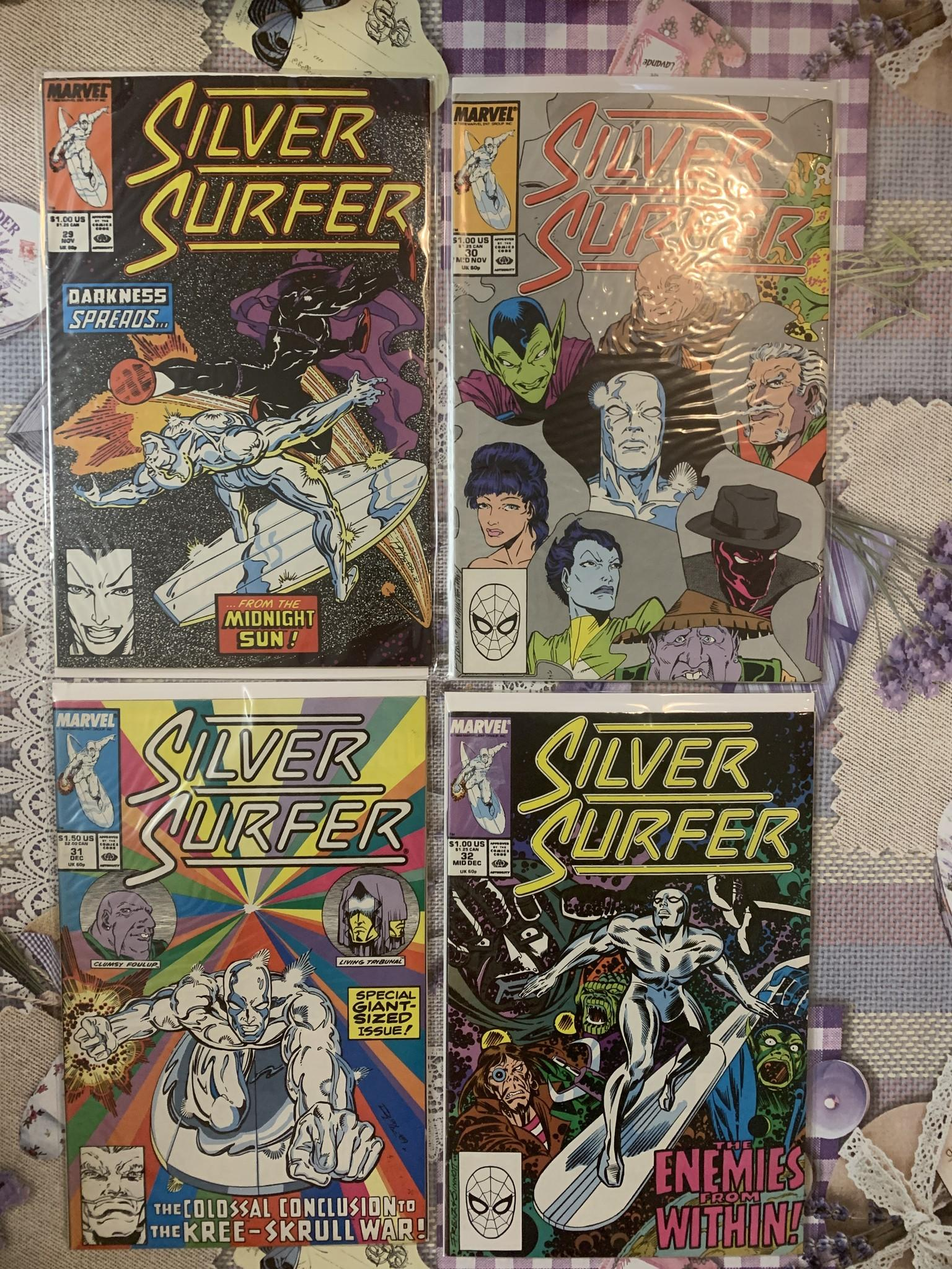comic: (43, 70, 440, 675), (448, 76, 833, 683), (442, 691, 814, 1264), (54, 681, 427, 1250)
